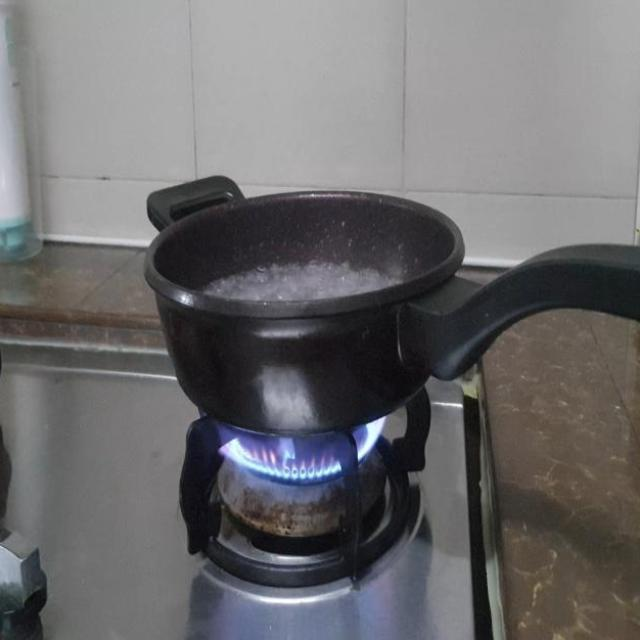smoke: (214, 408, 388, 481)
